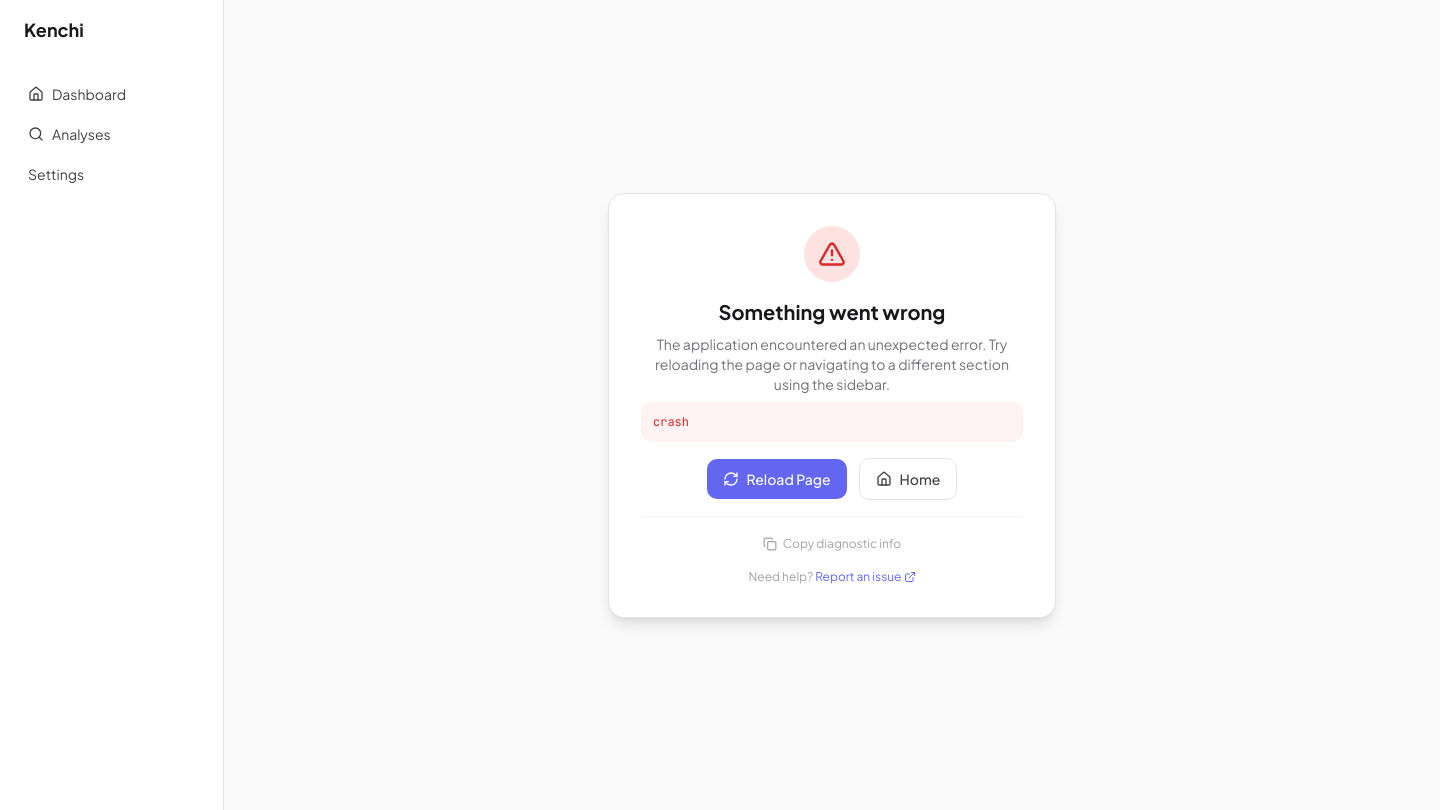
Test case: ErrorBoundary › when a rendering error occurs › should show 'Copied!' feedback after copying diagnostic info
Click the button "Copy diagnostic info" at (832, 544), box left=763, top=536, right=901, bottom=552
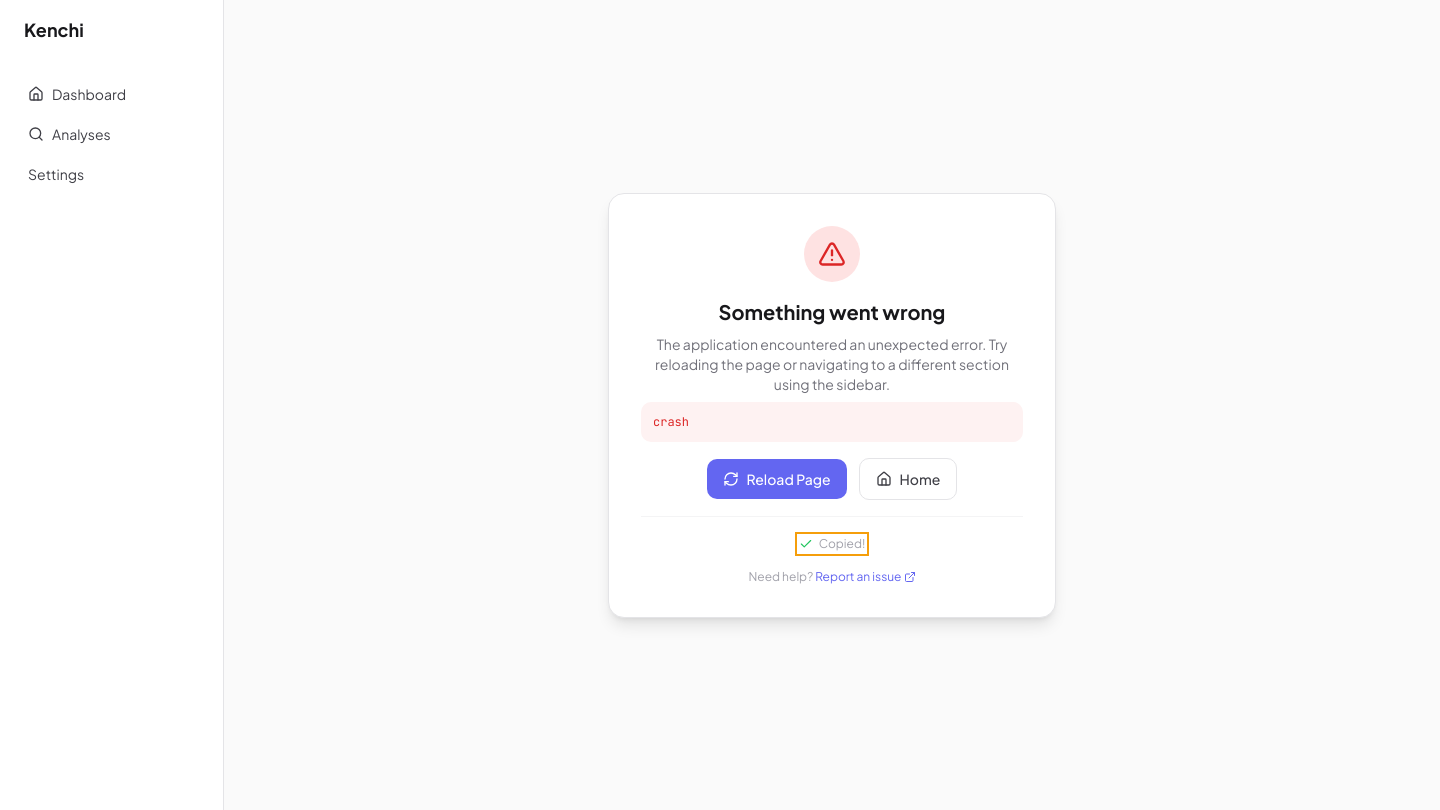
Check: the button "Copied!" is shown, box left=799, top=536, right=865, bottom=552
